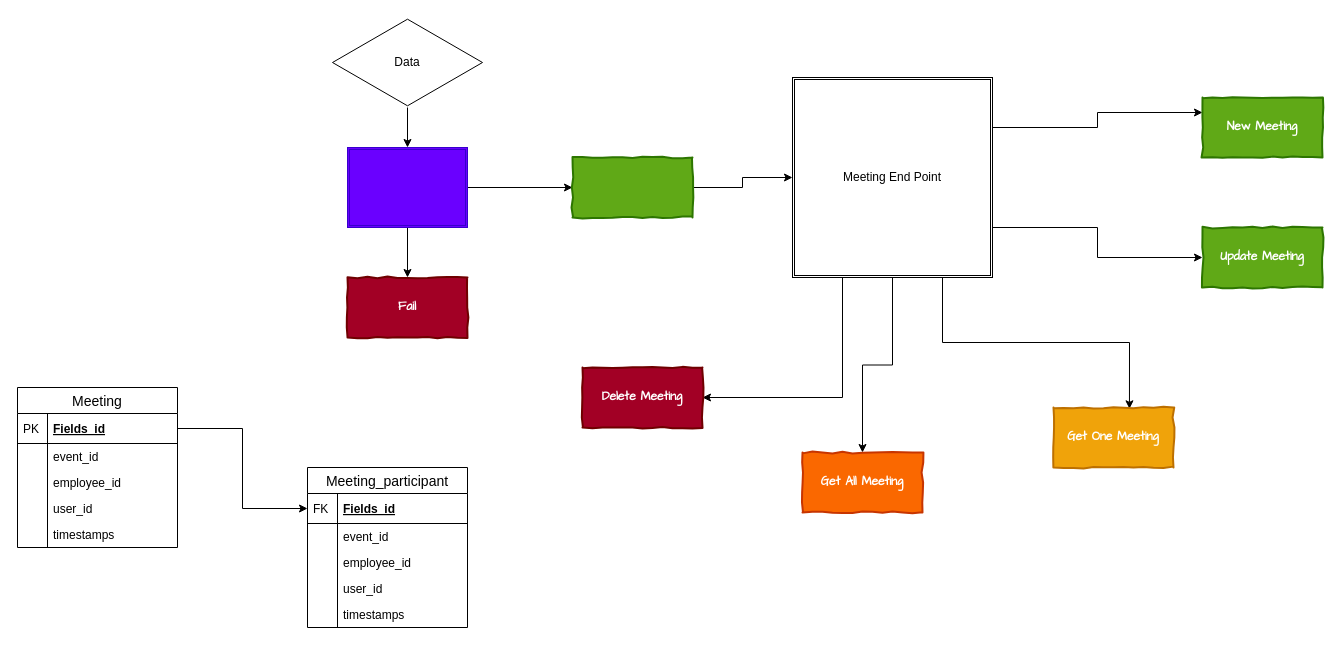
Some shapes in this 1341 by 648 pixel diagram are drawn without their labels. Here are the shapes that lost their labels. From the top down, the centre of each, then its label:
At (407,187): "Validation".
At (632,187): "Pass".
